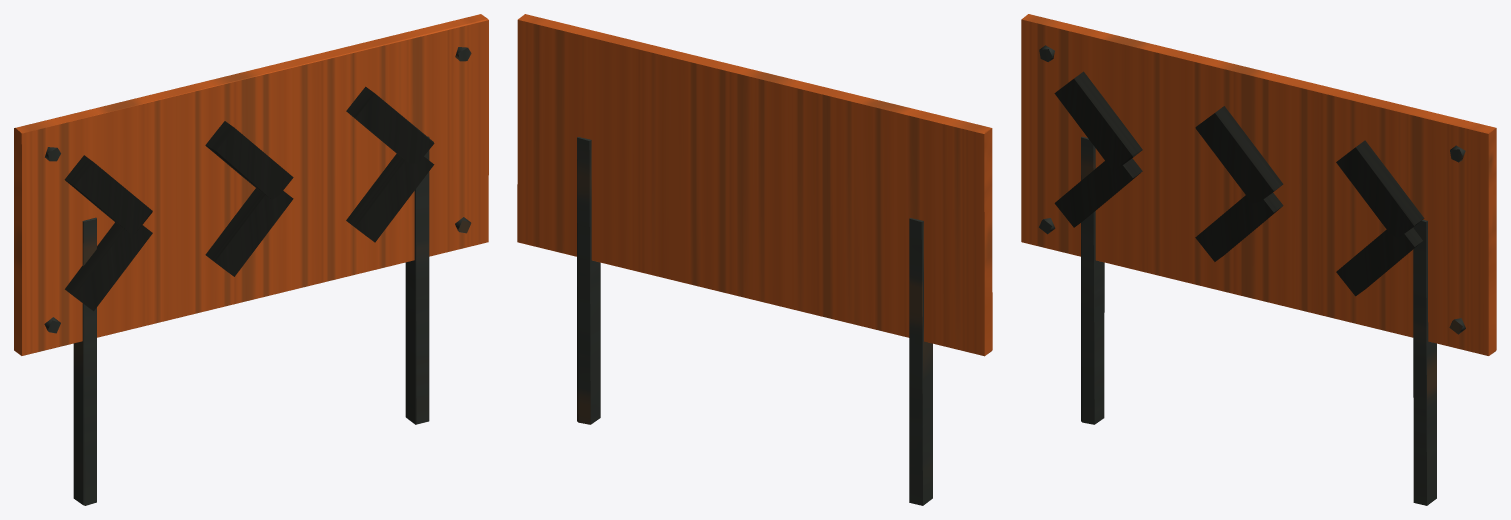
The model's file is chevron-sign-lod.obj.
3 views of the same model, side by side, from view 1: azimuth 30°, elevation 25°; view 2: azimuth 150°, elevation 25°; view 3: azimuth 330°, elevation 25° (orthographic).
Parts seen in each view (by area): view 1: chevron-sign.001; view 2: chevron-sign.001; view 3: chevron-sign.001.
Part boxes in pixels (x1,y1,x2,y2): chevron-sign.001: (14,14,488,505); chevron-sign.001: (517,14,992,505); chevron-sign.001: (1021,14,1496,505).
Bounding box in the file's own units: 2.39 × 1.89 × 0.1693.
Materials: 1 (1 with a texture image).
